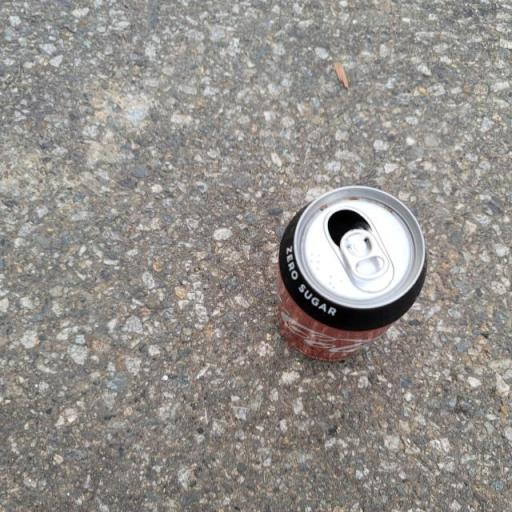metal: (238, 141, 446, 387)
